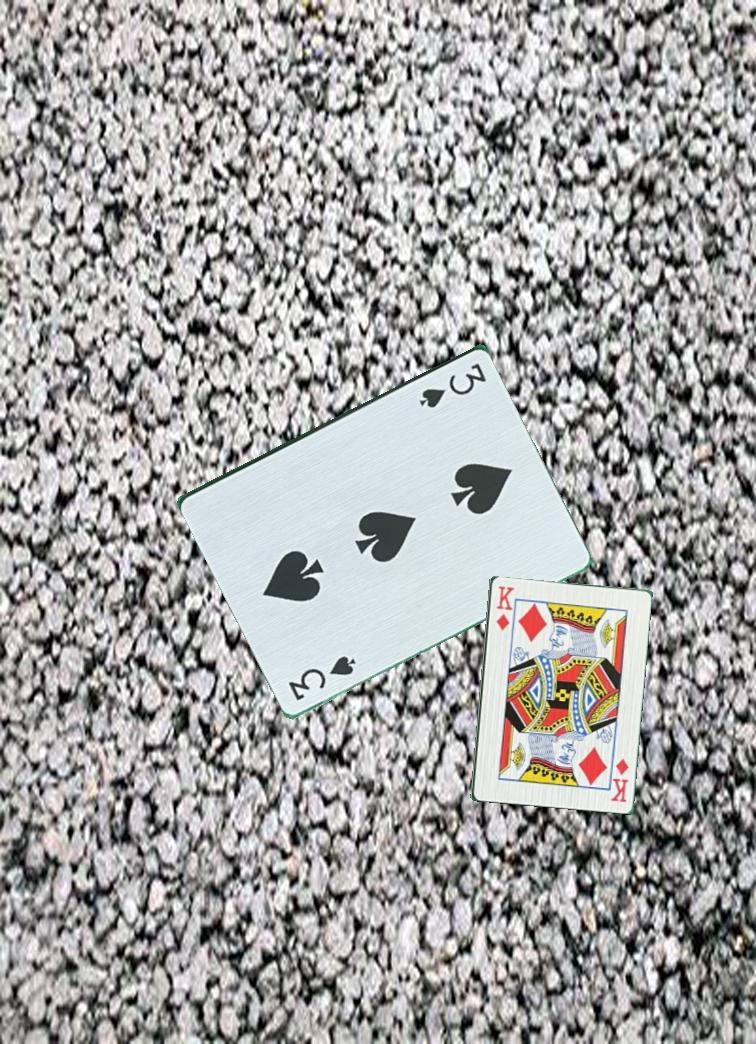3s: (412, 360, 489, 413), (284, 653, 359, 705)
kd: (608, 754, 631, 804), (492, 582, 514, 633)
